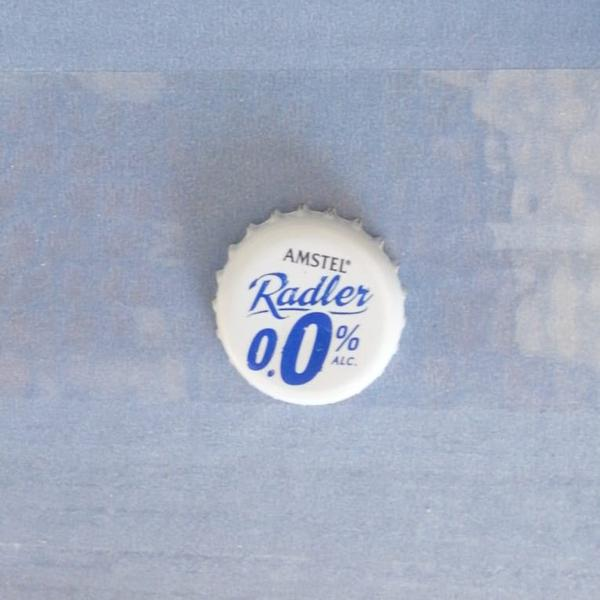amstelradler0.0: (208, 203, 410, 413)
